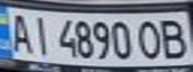0: (109, 18, 136, 61)
4: (51, 16, 75, 58)
8: (72, 17, 93, 60)
9: (90, 18, 115, 61)
A: (3, 10, 36, 54)
B: (154, 16, 193, 61)
I: (27, 12, 54, 56)
O: (133, 17, 166, 61)
